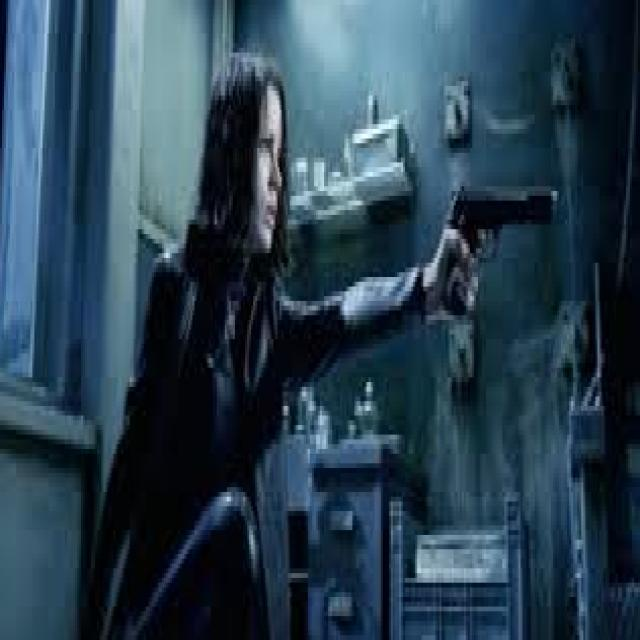gun: (436, 151, 558, 327)
